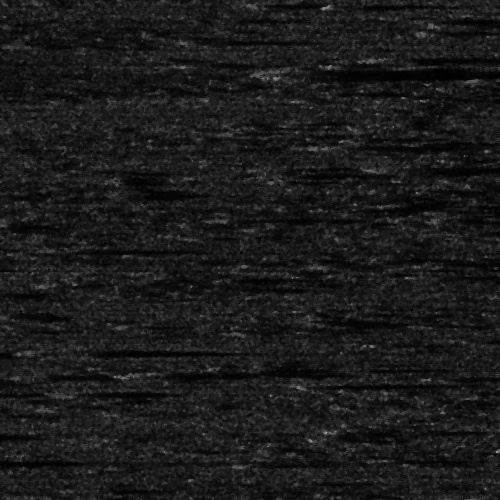object: (230, 66, 313, 79), (306, 137, 389, 148), (121, 367, 184, 378), (387, 14, 460, 23), (34, 243, 107, 252), (13, 346, 96, 353), (196, 215, 259, 222), (272, 381, 335, 386), (207, 460, 270, 465), (369, 55, 422, 60), (60, 485, 113, 490), (380, 155, 391, 176), (0, 311, 32, 318), (45, 389, 86, 394), (223, 276, 254, 279)
shadow: (272, 66, 500, 79), (386, 155, 500, 176), (152, 367, 334, 378), (348, 137, 498, 148), (71, 243, 206, 252), (228, 215, 375, 222), (55, 346, 197, 353), (0, 456, 78, 465), (424, 14, 500, 23), (304, 381, 434, 386), (66, 389, 179, 394), (396, 55, 500, 60), (239, 460, 332, 465), (5, 311, 60, 318), (87, 485, 144, 490), (239, 276, 331, 279)
